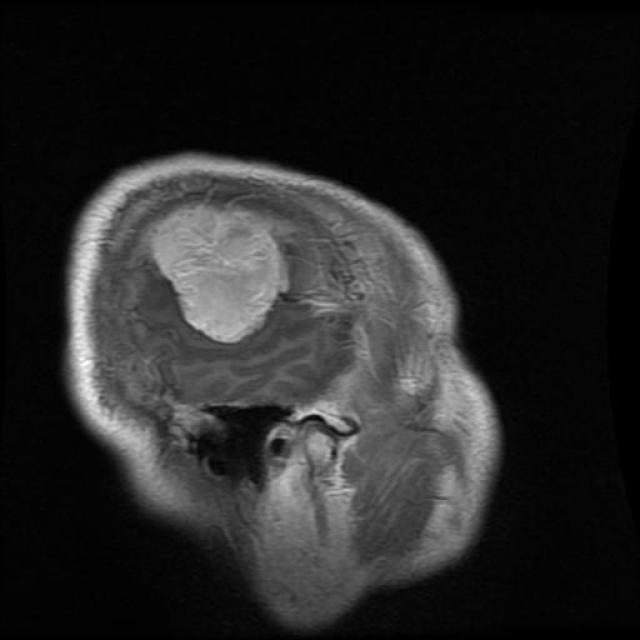meningioma: (152, 198, 289, 345)
